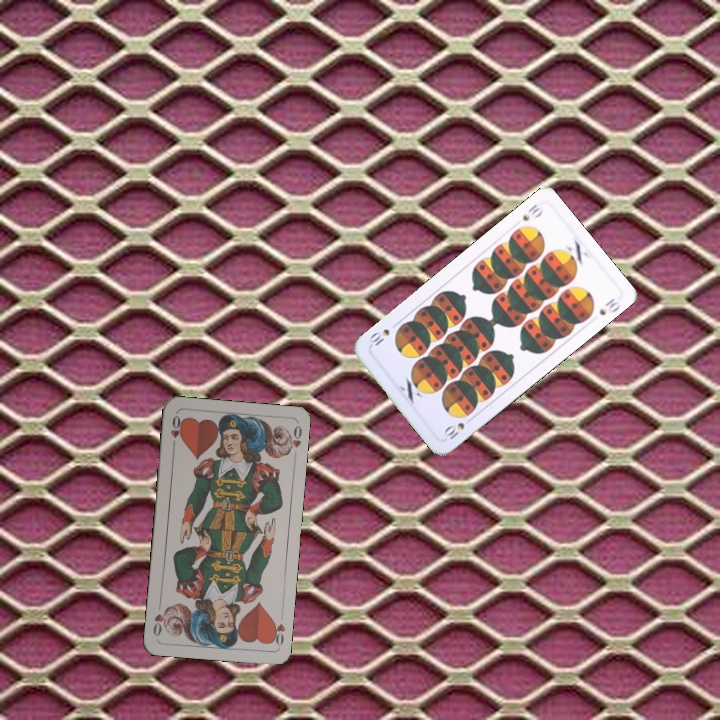HO: (267, 609, 288, 648), (166, 411, 185, 451)
S10: (439, 413, 475, 442), (518, 200, 546, 224)
